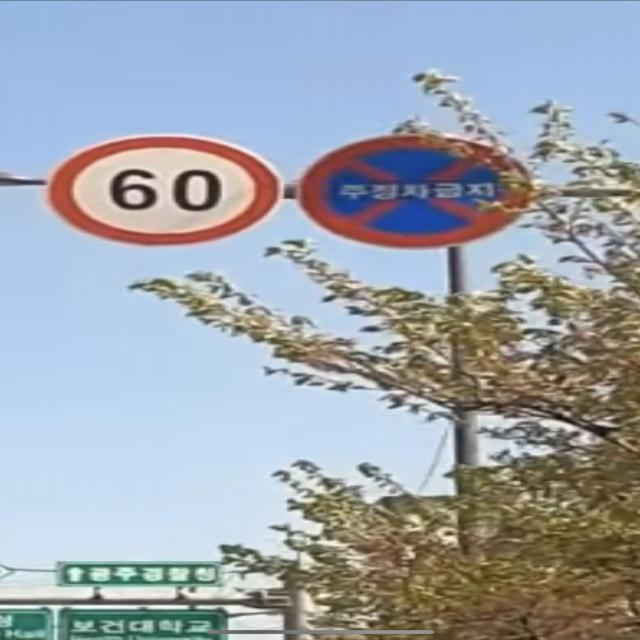traffic_sign: (48, 135, 284, 246), (47, 135, 278, 244)
